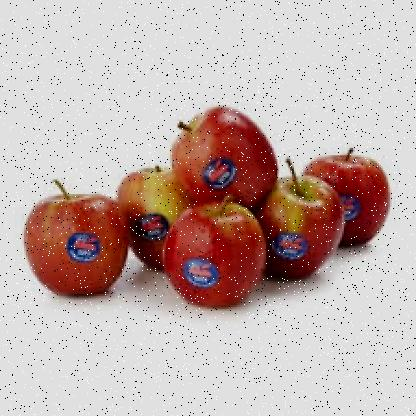apple: (15, 189, 127, 307), (161, 200, 270, 310), (170, 102, 277, 214), (292, 140, 396, 252), (259, 166, 347, 290), (111, 161, 205, 272)
